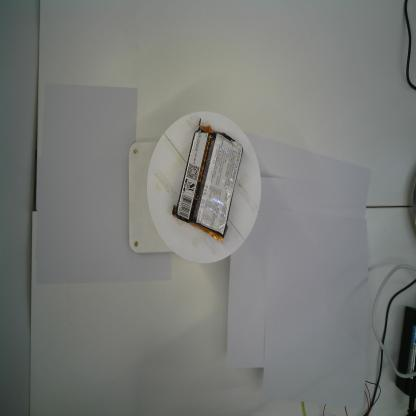Dessert: (172, 116, 244, 246)
